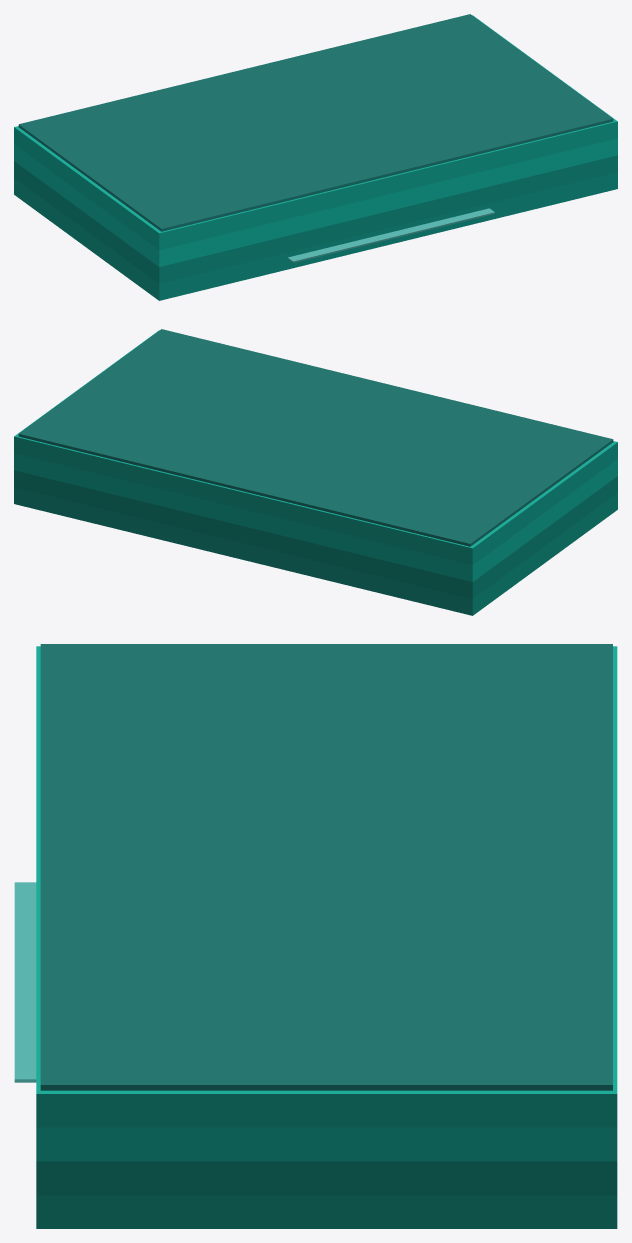
3 views of the same model, one above another, from view 1: azimuth 30°, elevation 25°; view 2: azimuth 150°, elevation 25°; view 3: azimuth 270°, elevation 25° (orthographic). The views are drawn at different scales.
Visible parts, largest first — view 1: shell; view 2: shell; view 3: shell.
Boxes of the visible parts, bbox=[...] form: shell: bbox=[14, 14, 617, 300]; shell: bbox=[14, 329, 617, 615]; shell: bbox=[14, 644, 617, 1228].
Bounding box in the file's own units: 155 × 22.7 × 88.2.
